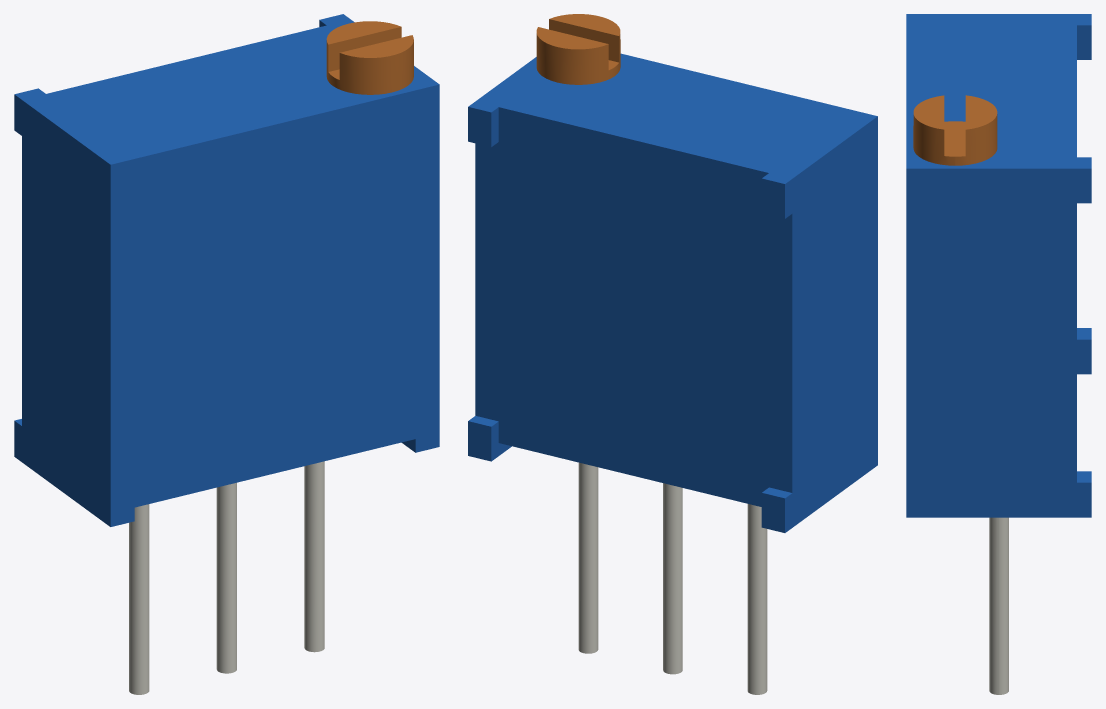
File: trimpot.glb
3 renders of one model, left to right at view 1: azimuth 30°, elevation 25°; view 2: azimuth 150°, elevation 25°; view 3: azimuth 270°, elevation 25°, orthographic. The views are drawn at different scales.
Visible parts, largest first — view 1: trimpot; view 2: trimpot; view 3: trimpot.
Boxes of the visible parts, box(x1,y1,x2,y2) form: trimpot: box(14, 14, 439, 694); trimpot: box(468, 14, 877, 694); trimpot: box(906, 14, 1091, 694).
Size of the model in its own units: 9.53 by 17.07 by 4.83.
